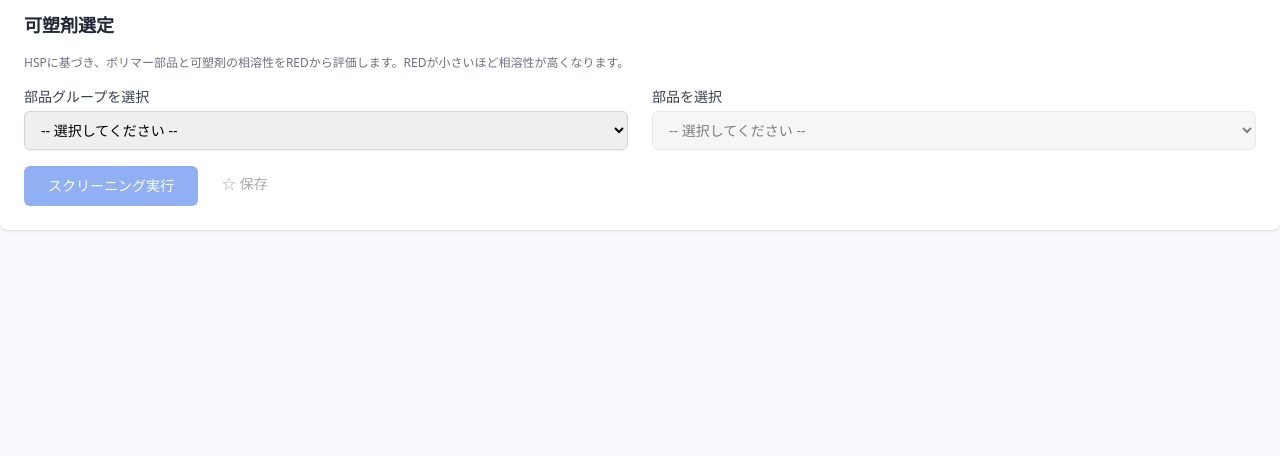
Test case: PlasticizerView › CSV出力ボタンが結果表示後に出現
Expected: the text "CSV出力" is not shown
Select "テストグループ2 (1部品)" in the dropdown labelled "部品グループを選択" at (326, 130), box [24,111,628,150]
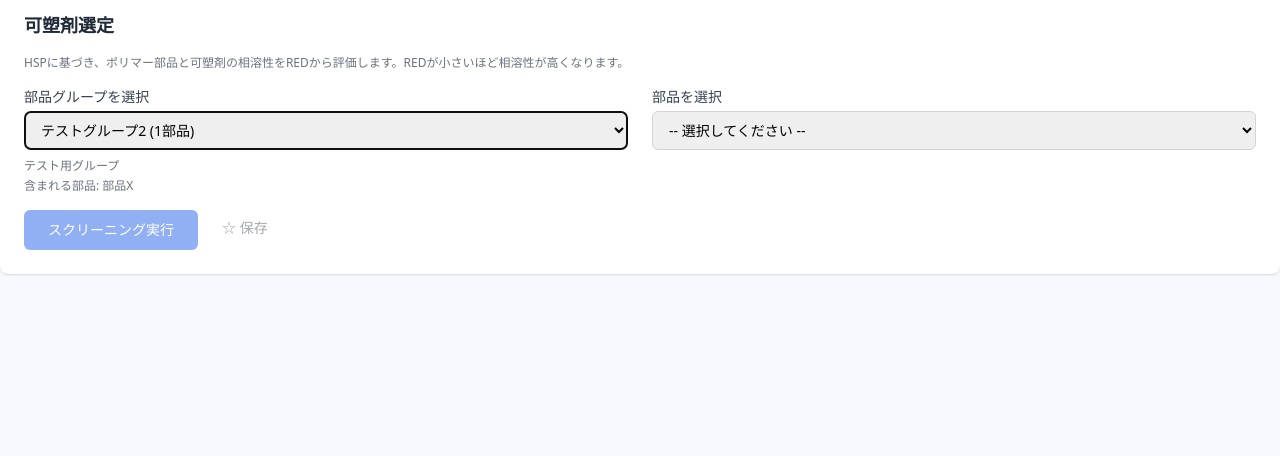
Select "部品X (PS)" in the 2nd dropdown at (954, 130), box [652,111,1256,150]
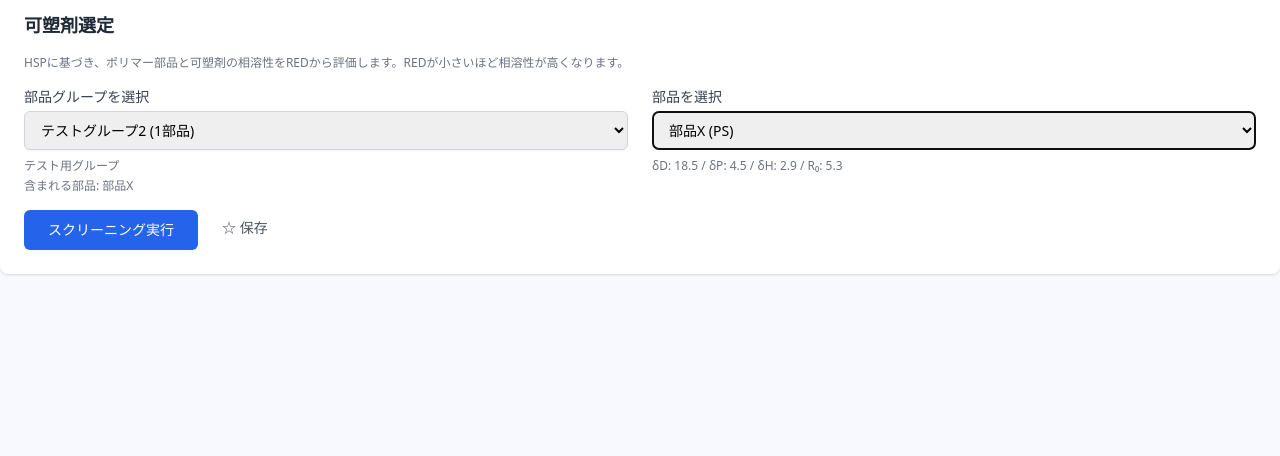
Click the button "スクリーニング実行".
click(111, 230)  # box [24,210,198,250]
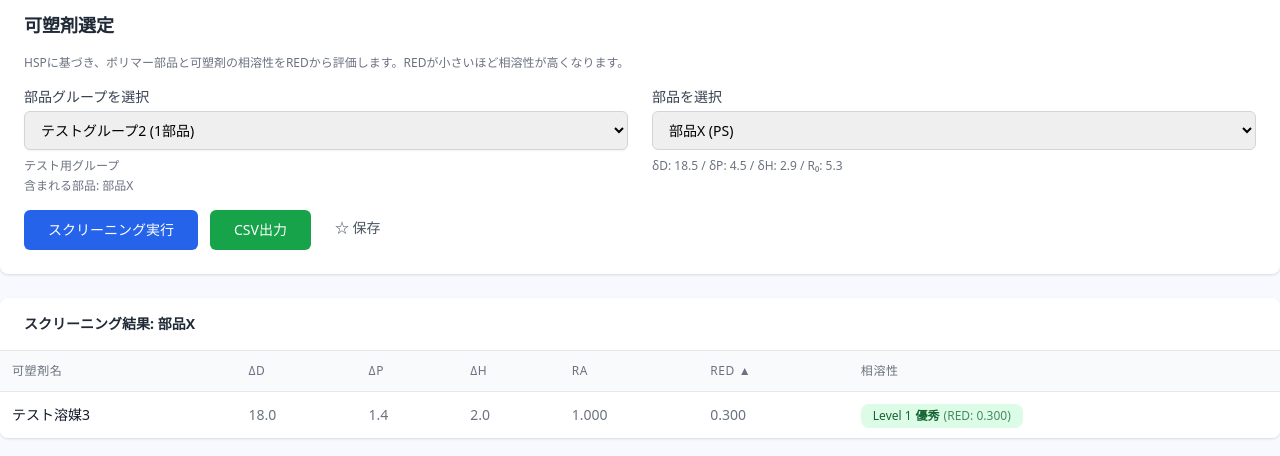
Now the button "CSV出力" is shown, box [210,210,311,250]
